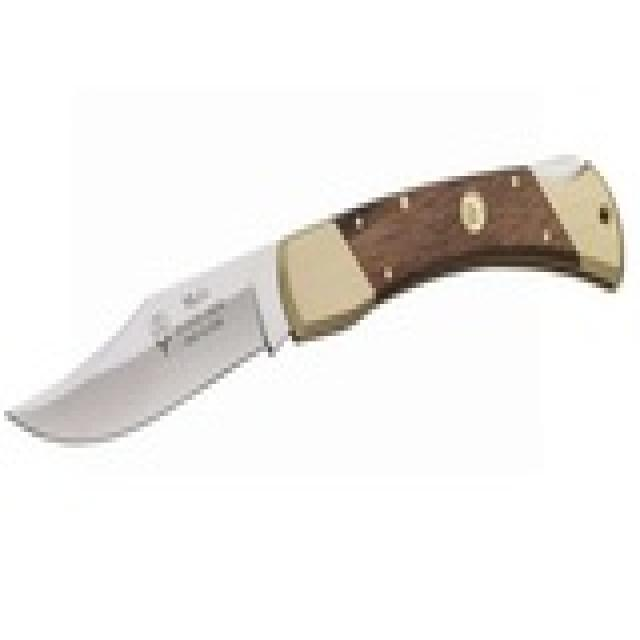Knife: (4, 151, 627, 467)
